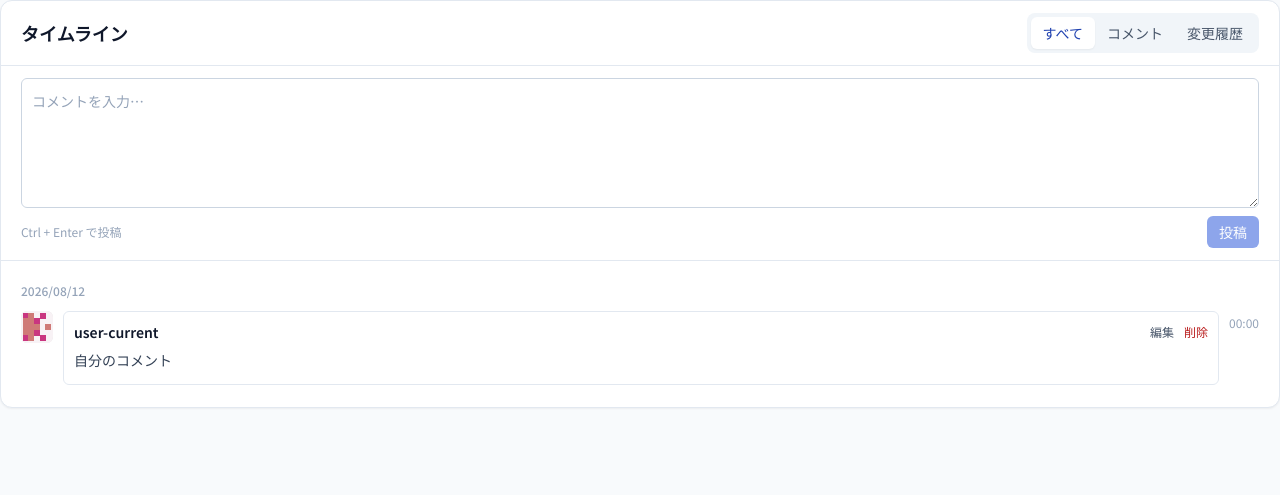
TaskTimeline › 自分のコメントを CommentComposer で編集し、成功後に再取得する
Click the button with aria-label "自分のコメントを編集": [1162, 332] box x1=1150 y1=324 x2=1174 y2=340
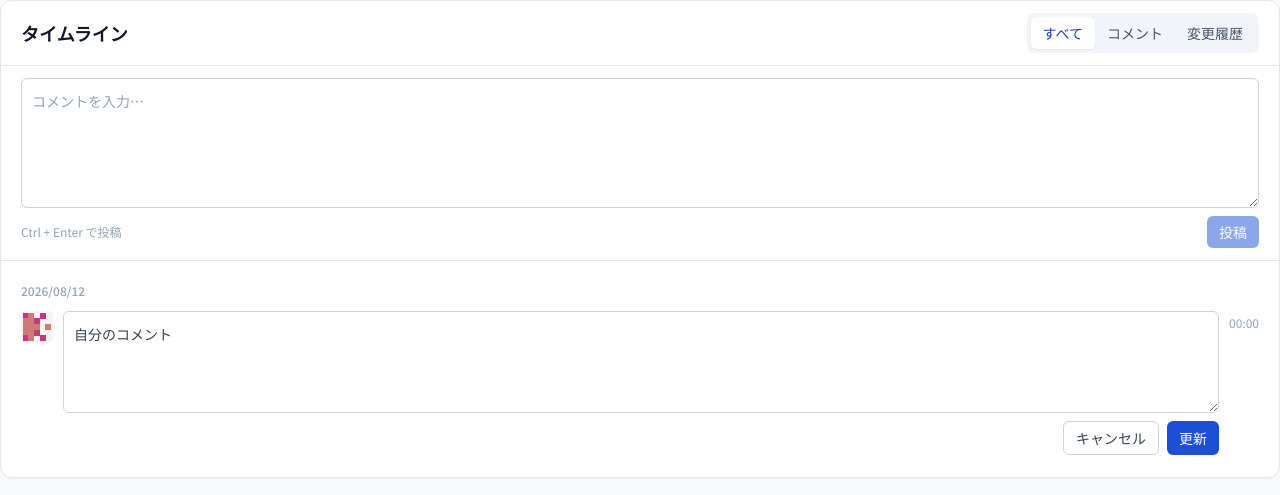
Expected: the element with test id "comment-composer-edit" does not show "Ctrl + Enter"
Replace the text in the 2nd text box with "編集後のコメント": [641, 362] box x1=63 y1=311 x2=1219 y2=413
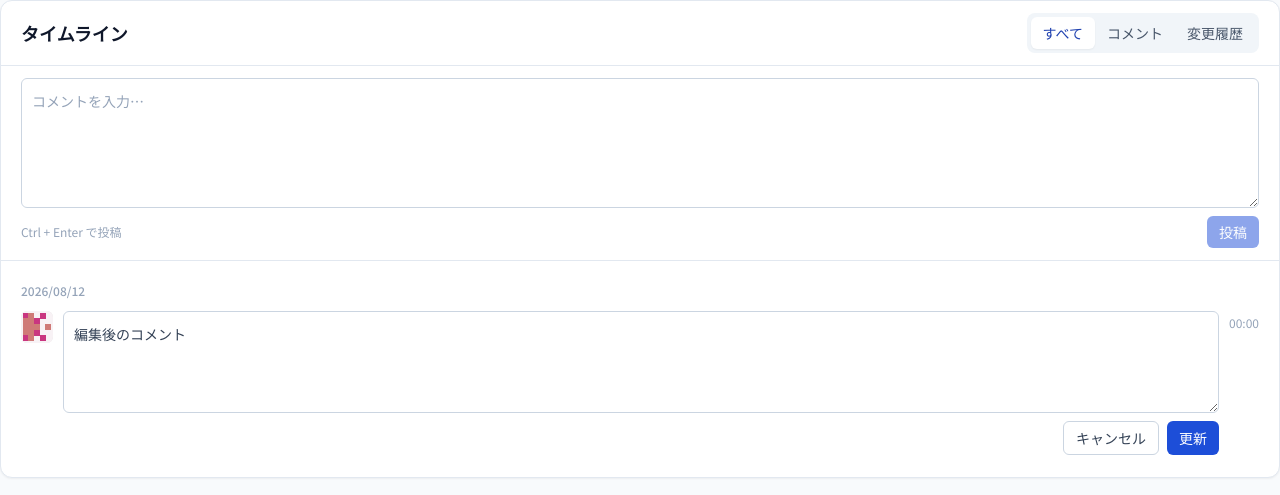
Submit the form with test id "comment-composer-edit", box x1=63 y1=311 x2=1219 y2=455
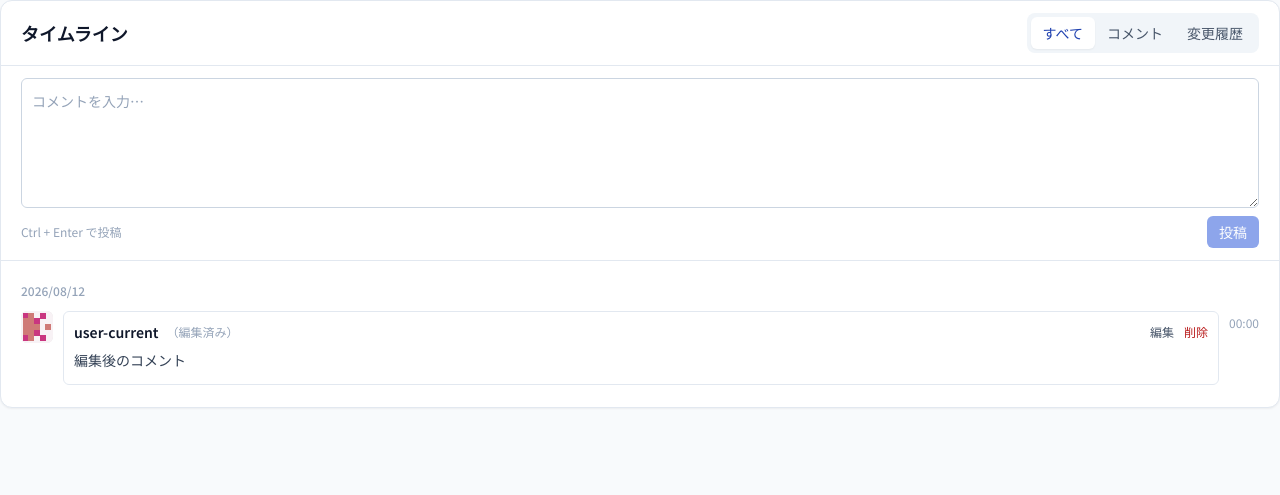
Result: the text "編集後のコメント" is shown at x1=74 y1=350 x2=186 y2=370
